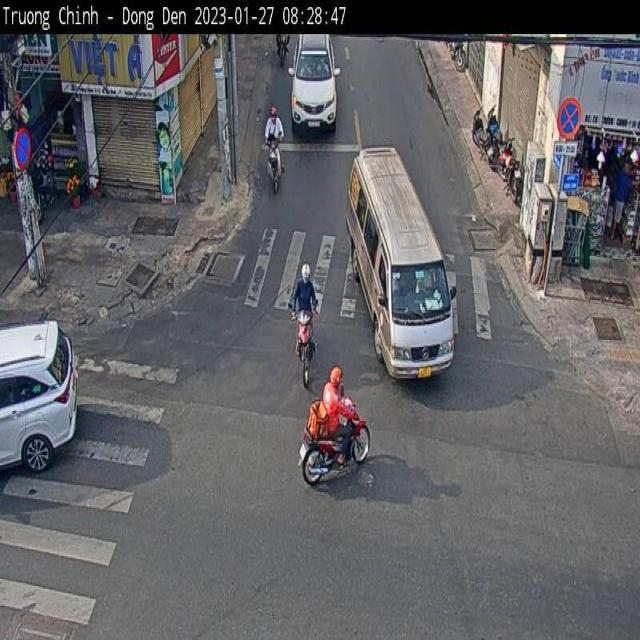with_helmet: (327, 357, 354, 405), (300, 241, 318, 287), (272, 95, 288, 128)
